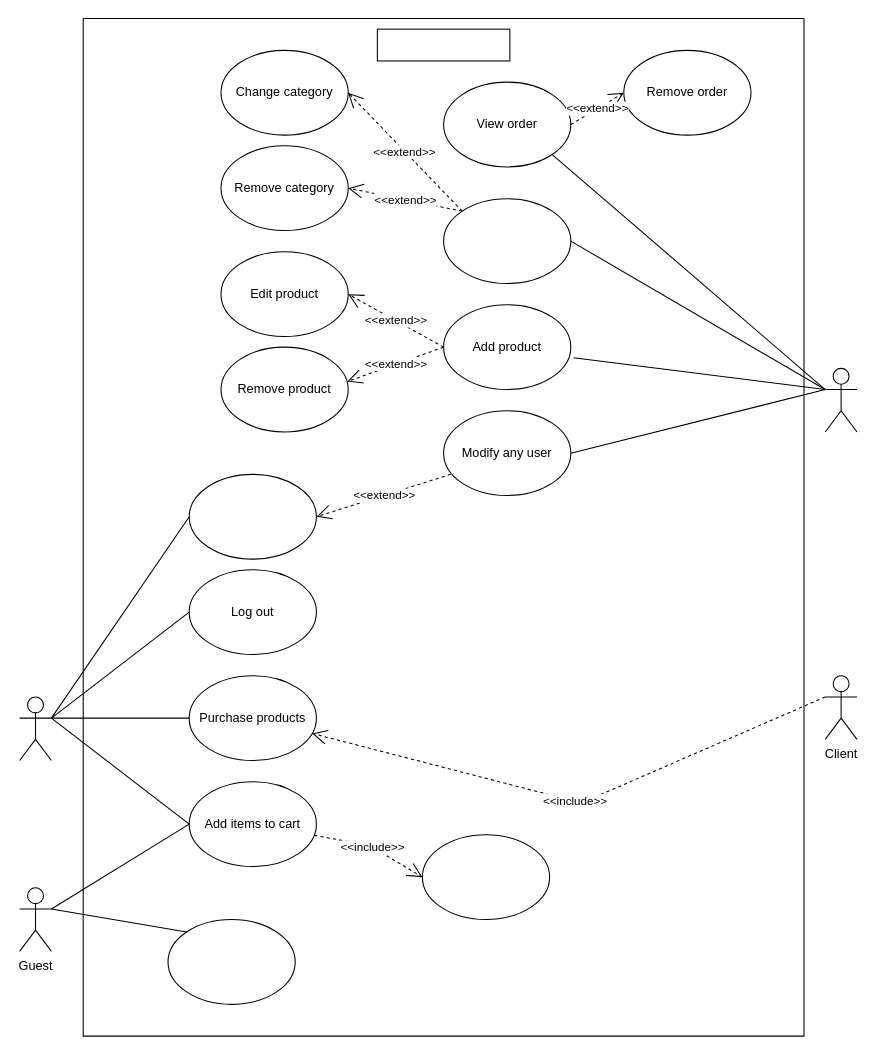
Image size: 877x1055. Some labels were removed from this diagram. The shapes that lost their labels are listed below. From the top down, each one's box as (x1, y1, x2, y2) in pixels, then its label:
(376, 28, 510, 61): Shopping Cart
(443, 198, 571, 284): Add category
(824, 367, 857, 432): Admin
(188, 473, 316, 559): Modify user
(19, 696, 51, 761): User
(421, 834, 550, 920): Verify if in stock
(167, 918, 295, 1004): Continue without loggin
